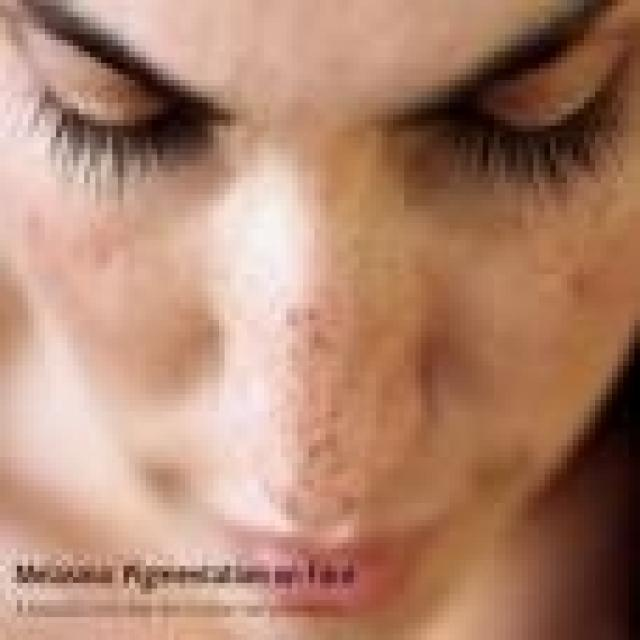Melasma: (18, 212, 224, 412), (437, 224, 624, 406), (247, 295, 380, 519)
